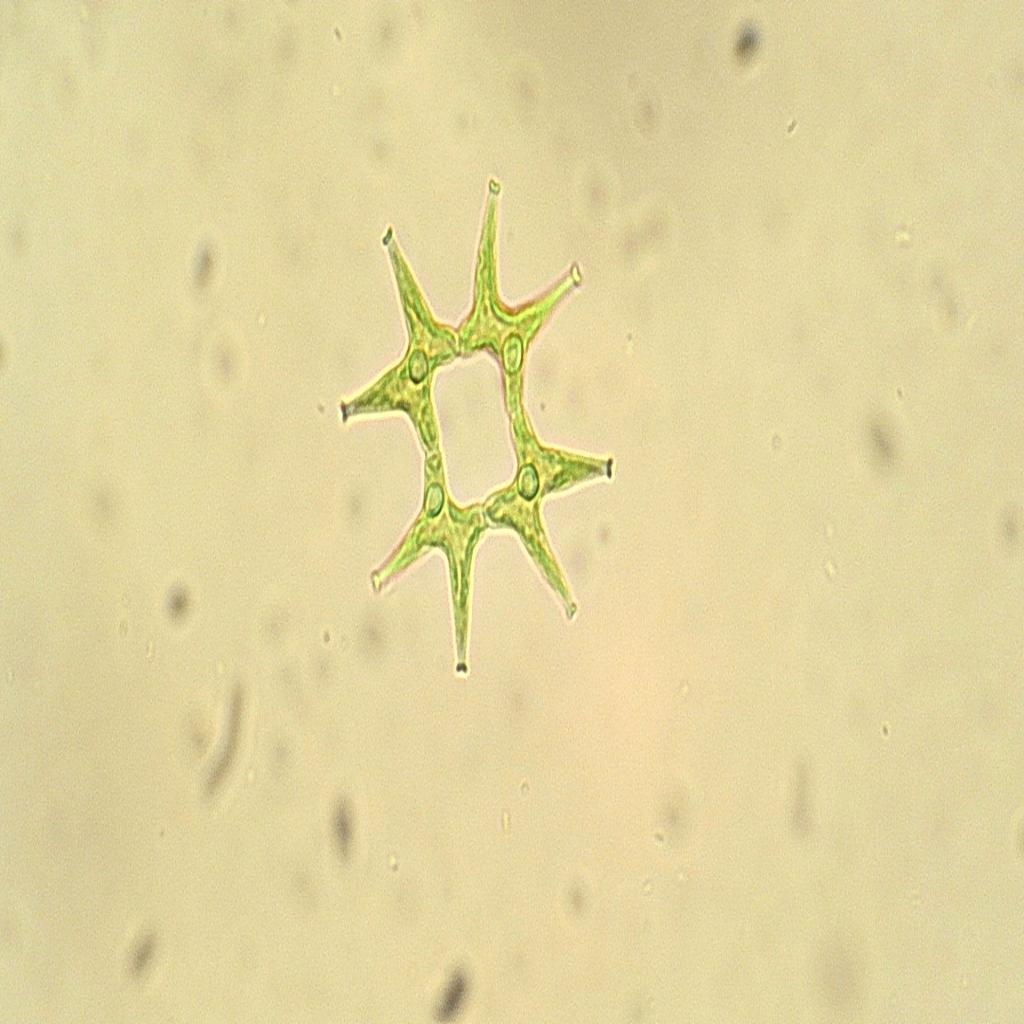Pediastrum_75O: (332, 168, 616, 704)
